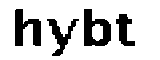b: (78, 5, 113, 50)
h: (11, 5, 44, 51)
t: (116, 11, 137, 50)
y: (45, 14, 78, 60)
